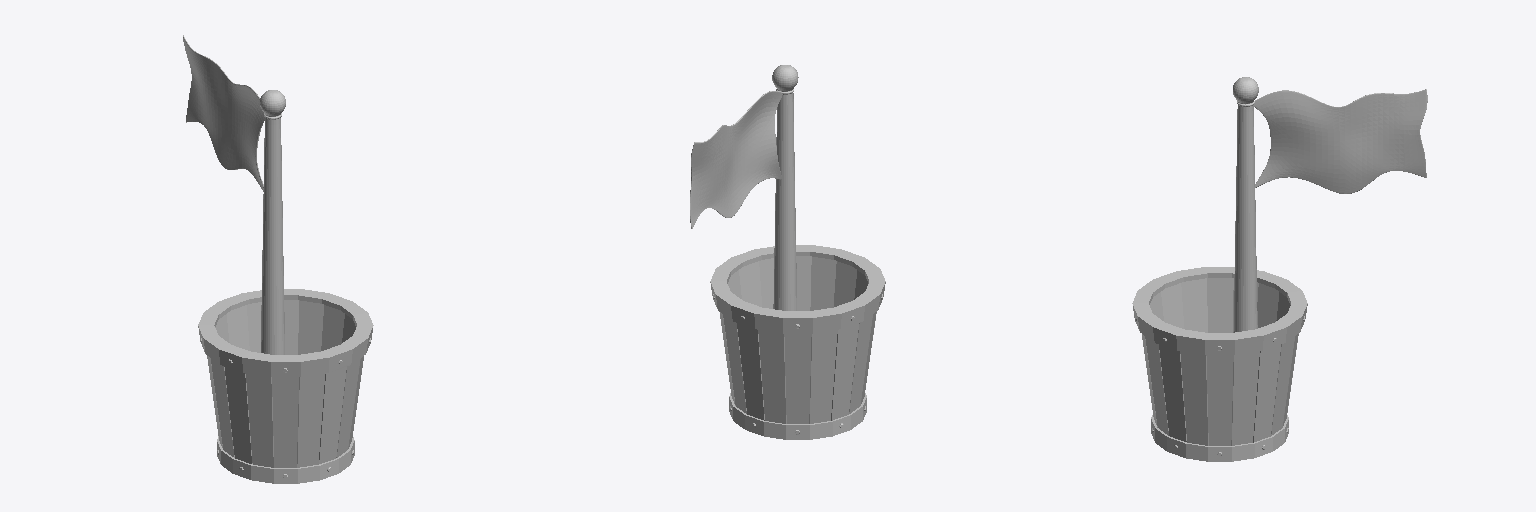
The model's file is high_pirate_pole.obj.
The picture shows the model from 3 angles: view 1: azimuth 30°, elevation 25°; view 2: azimuth 150°, elevation 25°; view 3: azimuth 270°, elevation 25°; orthographic projection.
Visible parts, largest first — view 1: Mesh; view 2: Mesh; view 3: Mesh.
Part boxes in pixels (left/top/right/bottom): Mesh: left=183, top=35, right=373, bottom=483; Mesh: left=690, top=65, right=885, bottom=439; Mesh: left=1132, top=77, right=1427, bottom=461.
Size of the model in its own units: 10.99 by 24.82 by 18.75.